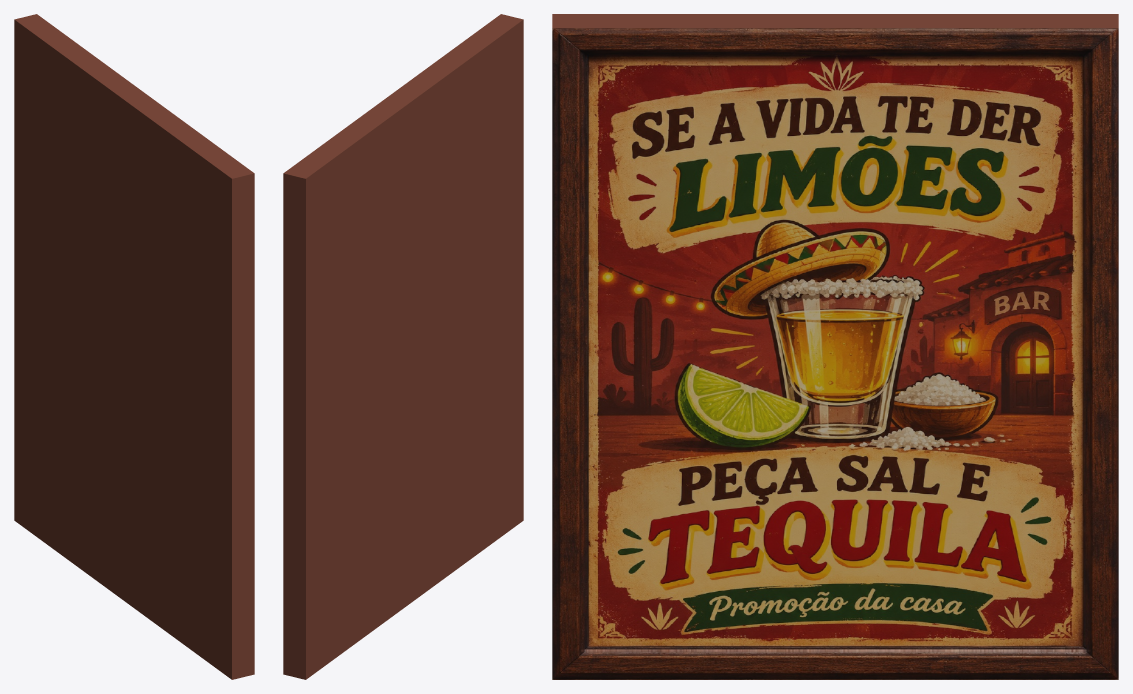
Rendered from quadro_4.glb.
The picture shows the model from 3 angles, left to right: view 1: azimuth 30°, elevation 25°; view 2: azimuth 150°, elevation 25°; view 3: azimuth 270°, elevation 25°; orthographic projection. The views are drawn at different scales.
Visible parts, largest first — view 1: Cube.003; view 2: Cube.003; view 3: Cube.003.
Boxes of the visible parts, left/top/right/bottom form: Cube.003: left=14, top=14, right=254, bottom=679; Cube.003: left=283, top=14, right=523, bottom=679; Cube.003: left=552, top=14, right=1118, bottom=679.
Bounding box in the file's own units: 0.1658 × 3.52 × 2.77.
Materials: 2 (1 with a texture image).
